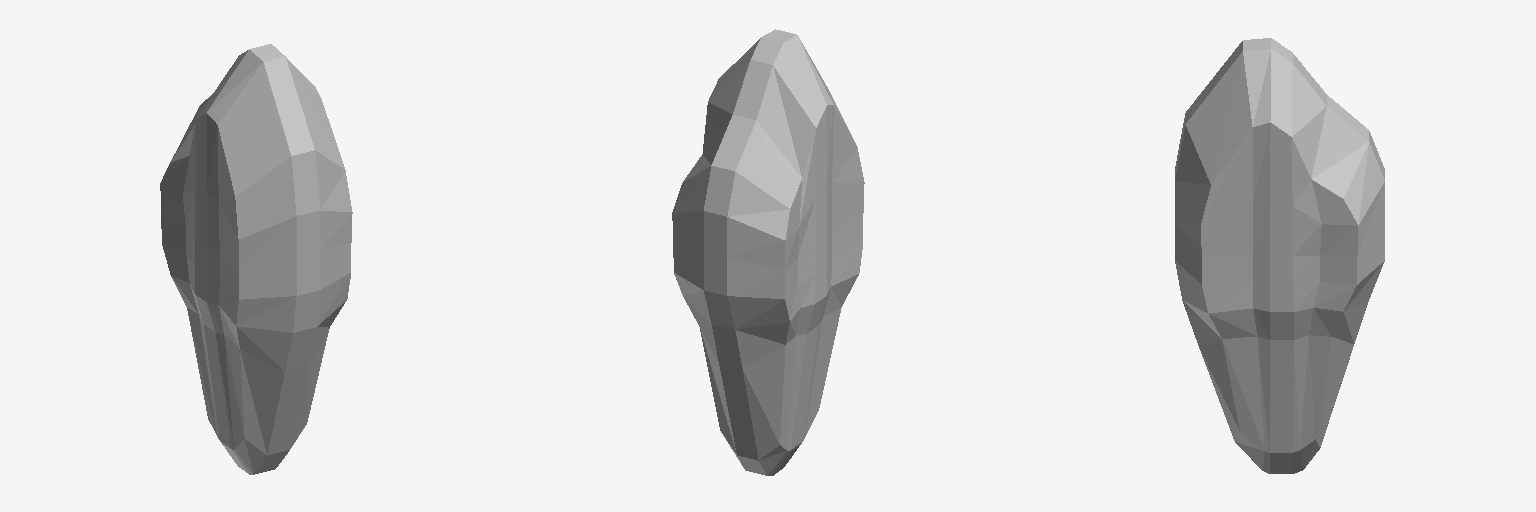
The model's file is monolith_09.obj.
3 views of the same model, side by side, from view 1: azimuth 30°, elevation 25°; view 2: azimuth 150°, elevation 25°; view 3: azimuth 270°, elevation 25° (orthographic).
Parts seen in each view (by area): view 1: Cube_Cube; view 2: Cube_Cube; view 3: Cube_Cube.
Boxes of the visible parts, x1,y1,x2,y2 form: Cube_Cube: [160, 44, 352, 474]; Cube_Cube: [672, 29, 864, 475]; Cube_Cube: [1175, 38, 1384, 473].
Size of the model in its own units: 197 by 703 by 315.